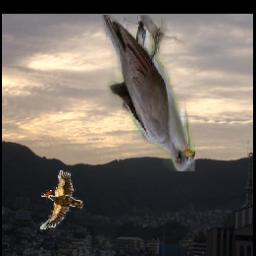Cuckoo: (101, 16, 196, 172)
Woodpecker: (40, 170, 84, 230)
